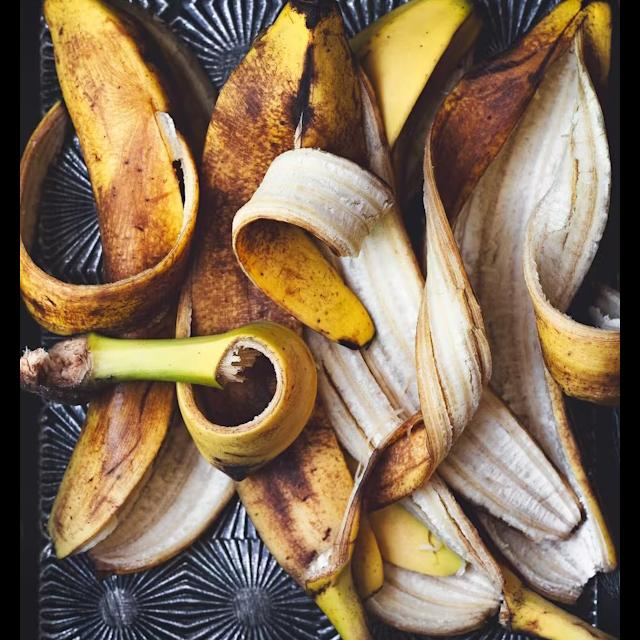food_waste: (171, 0, 619, 640), (400, 0, 620, 522), (20, 0, 209, 332), (199, 107, 392, 355)
